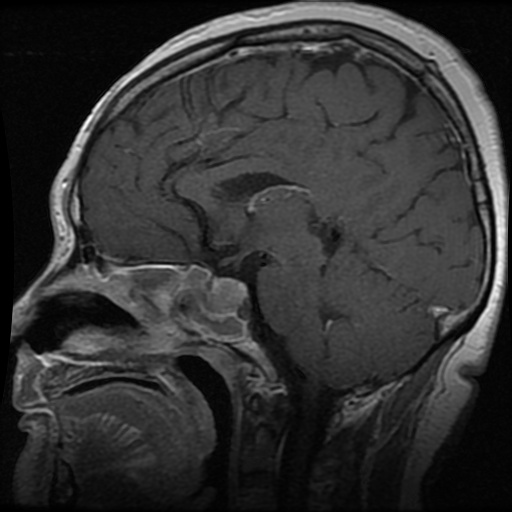pituitary: (206, 275, 247, 312)
